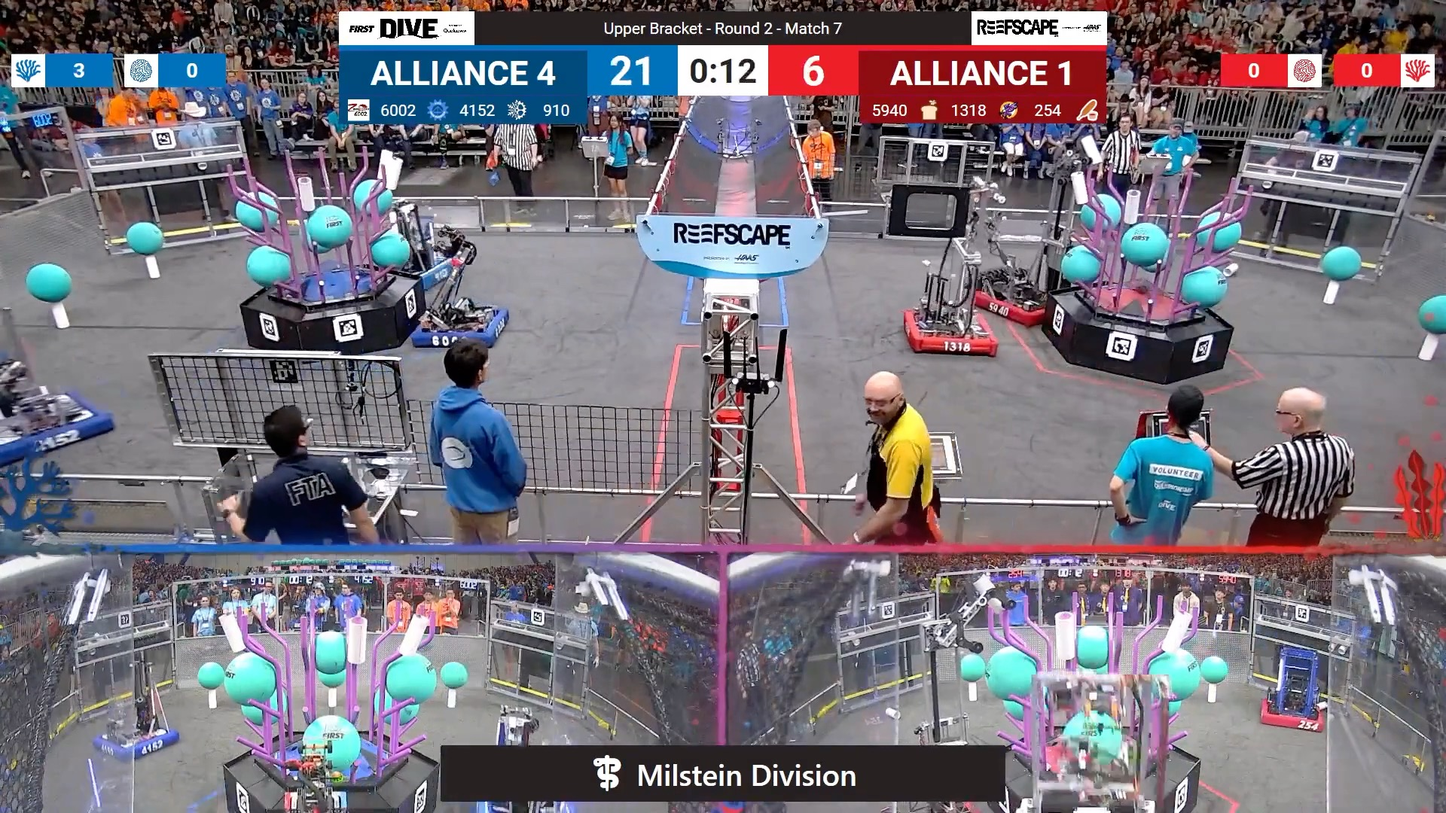bumpers: (0, 393, 112, 468), (902, 309, 1008, 365), (400, 297, 511, 350), (967, 286, 1058, 330), (91, 723, 188, 764), (1258, 691, 1330, 738)
